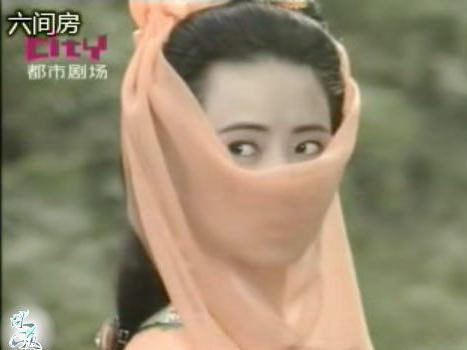OK: (182, 97, 346, 266)
